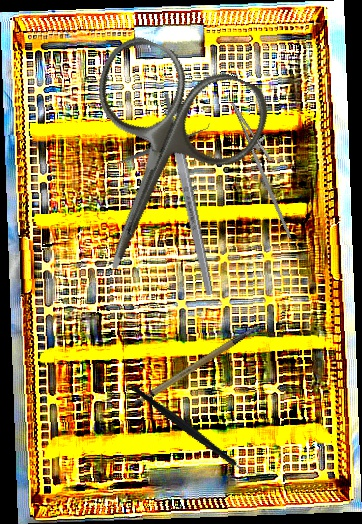Chopper: (130, 353, 263, 509)
Iris Scissors: (32, 28, 279, 301)
Needle Holder: (215, 96, 317, 239)
Scalpel Handle: (125, 323, 271, 410), (160, 92, 216, 297)
Spatula Surgical: (101, 121, 214, 175)
